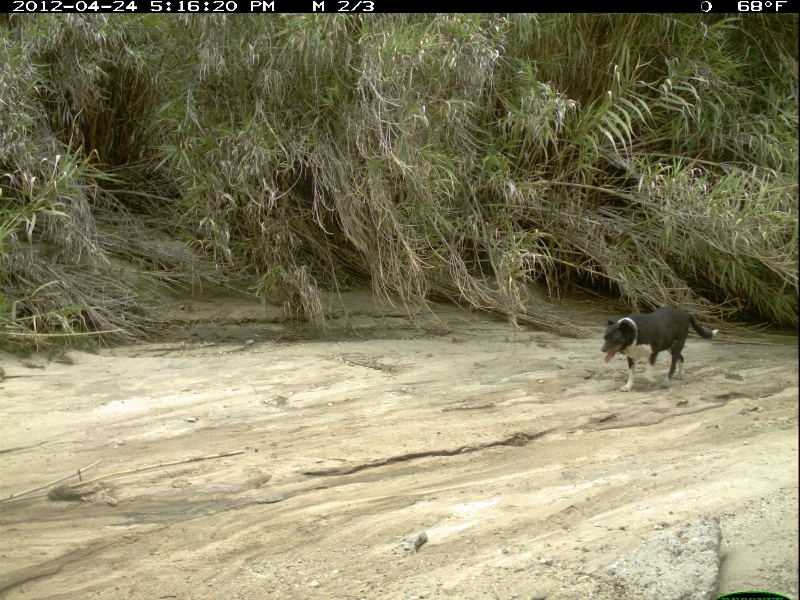dog: (600, 296, 723, 394)
